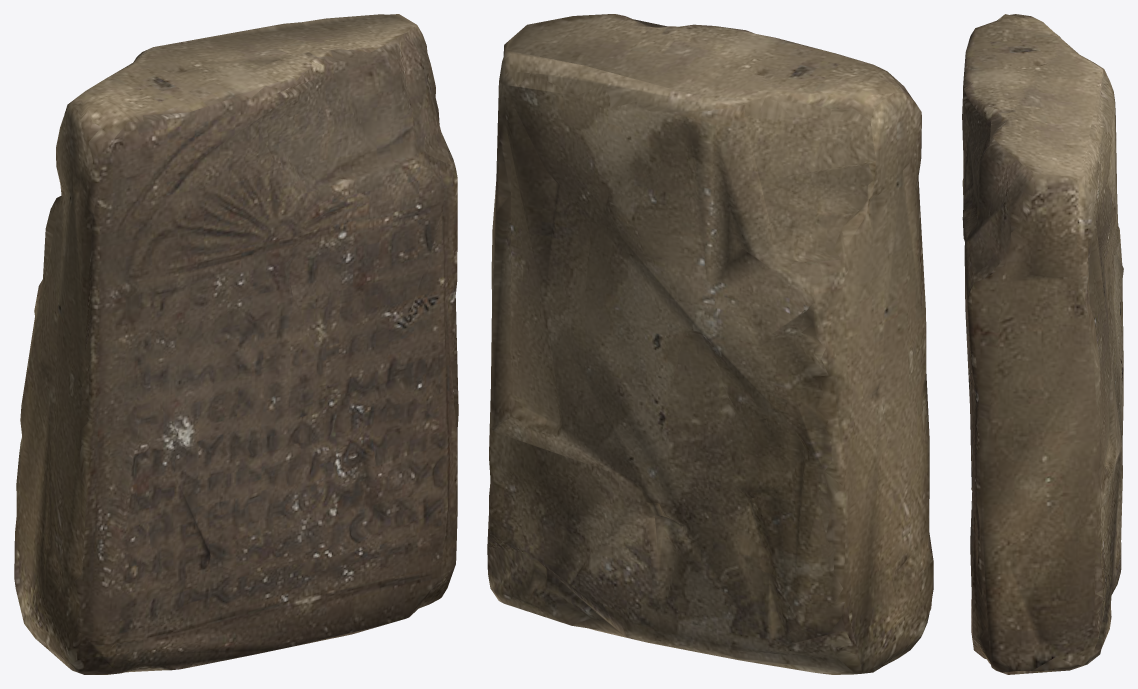
The model's file is st_tomb_stele.glb.
3 views of the same model, side by side, from view 1: azimuth 30°, elevation 25°; view 2: azimuth 150°, elevation 25°; view 3: azimuth 270°, elevation 25° (orthographic). The views are drawn at different scales.
Visible parts, largest first — view 1: 3D_MAK_AS_1631_Stela_z_Ginari_Tafah; view 2: 3D_MAK_AS_1631_Stela_z_Ginari_Tafah; view 3: 3D_MAK_AS_1631_Stela_z_Ginari_Tafah.
Boxes of the visible parts, bbox=[...] form: 3D_MAK_AS_1631_Stela_z_Ginari_Tafah: bbox=[14, 14, 458, 674]; 3D_MAK_AS_1631_Stela_z_Ginari_Tafah: bbox=[487, 14, 933, 674]; 3D_MAK_AS_1631_Stela_z_Ginari_Tafah: bbox=[962, 14, 1123, 674].
Size of the model in its own units: 3.17 by 4.53 by 1.3.
1 material, 1 textured.
